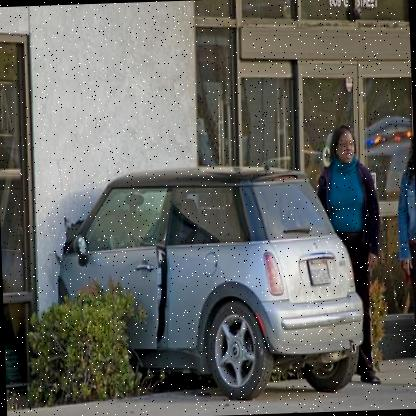car: (47, 154, 372, 409)
person: (313, 114, 388, 384)
